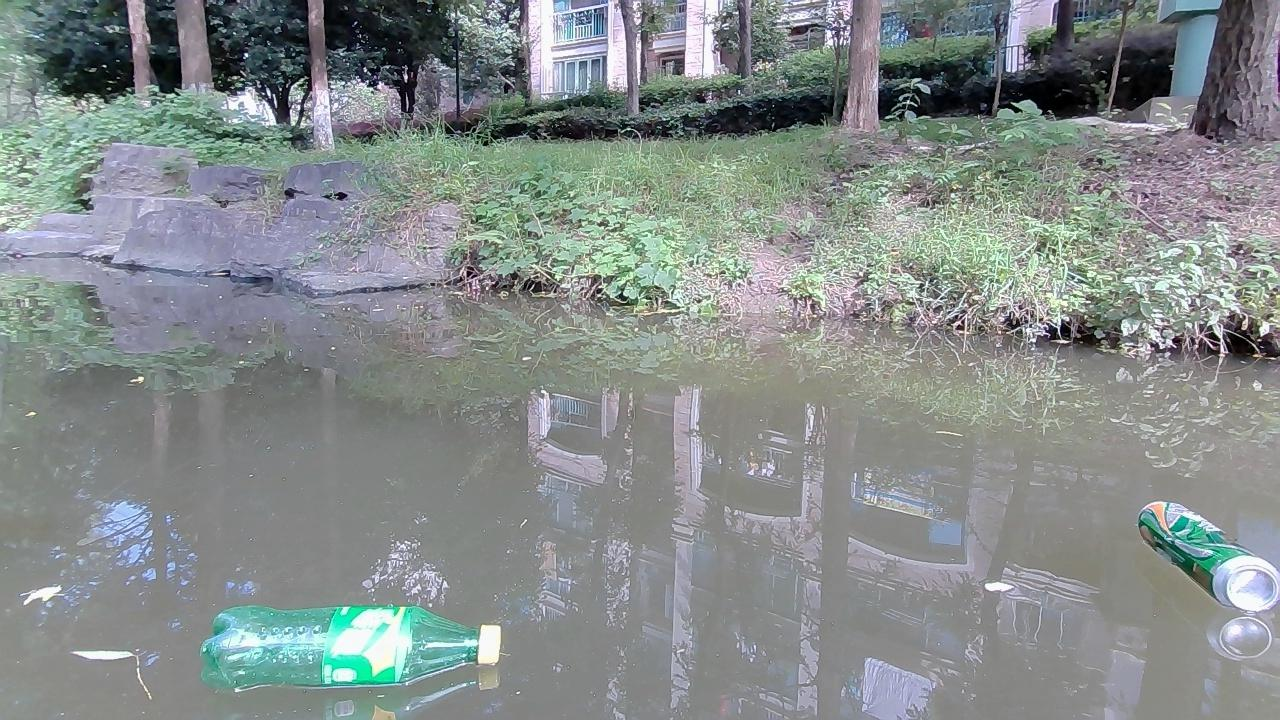Metal: (1130, 497, 1280, 618)
Plastic: (198, 603, 505, 693)
